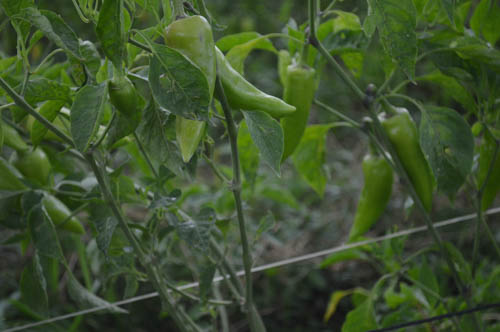ChiliPepper: (165, 18, 214, 167), (215, 55, 292, 116), (386, 111, 435, 205), (359, 156, 399, 246), (280, 66, 307, 159), (107, 77, 140, 110)
